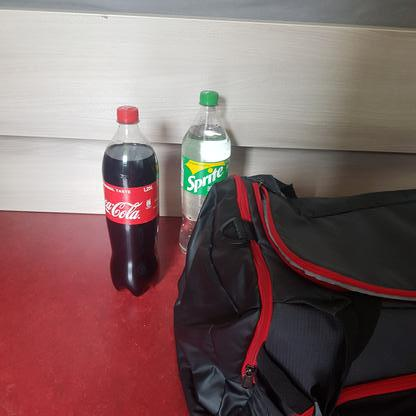coca-cola: (100, 104, 164, 297)
